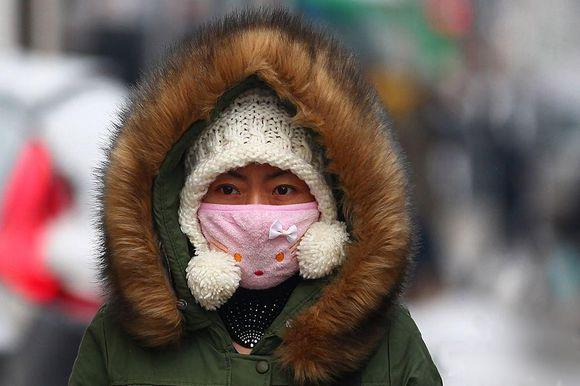OK: (194, 160, 320, 291)
